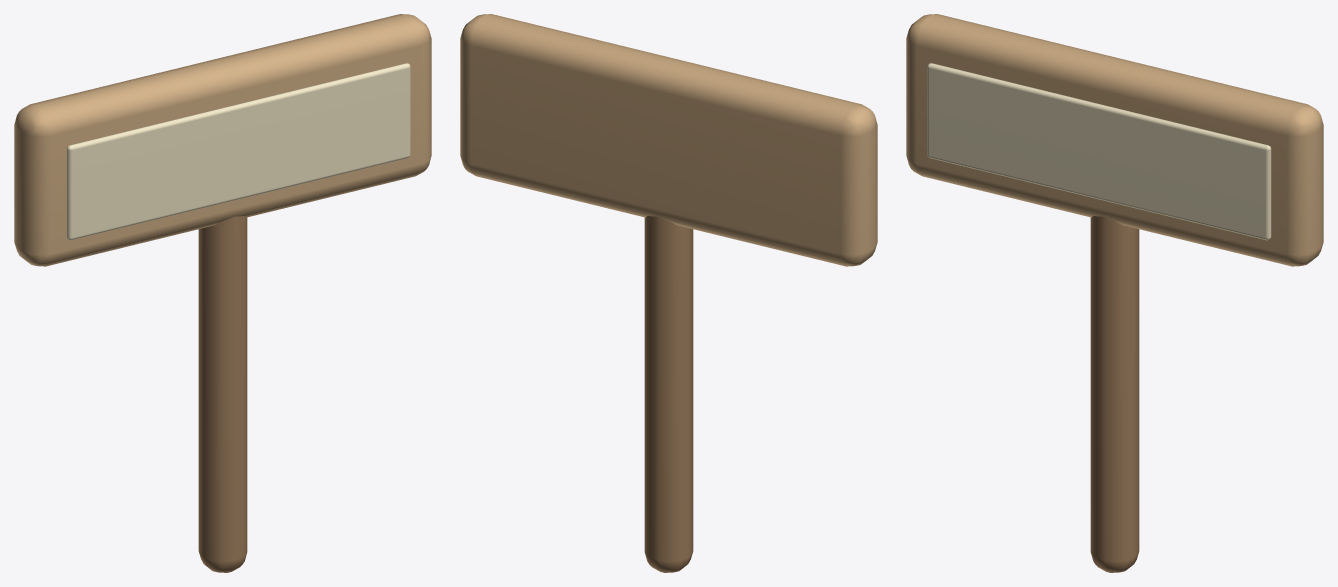
File: sign.glb
3 renders of one model, left to right at view 1: azimuth 30°, elevation 25°; view 2: azimuth 150°, elevation 25°; view 3: azimuth 330°, elevation 25°, orthographic.
Visible parts, largest first — view 1: Board, Inset, Post; view 2: Board, Post; view 3: Board, Inset, Post.
Part boxes in pixels (box(x1,y1,x2,y2)): Board: box(14, 14, 431, 266); Inset: box(66, 63, 410, 240); Post: box(198, 216, 247, 572); Board: box(460, 14, 877, 266); Post: box(644, 216, 693, 572); Board: box(906, 14, 1323, 266); Inset: box(927, 63, 1271, 240); Post: box(1090, 216, 1139, 572).
Bounding box in the file's own units: 0.9 × 1.08 × 0.1175.
